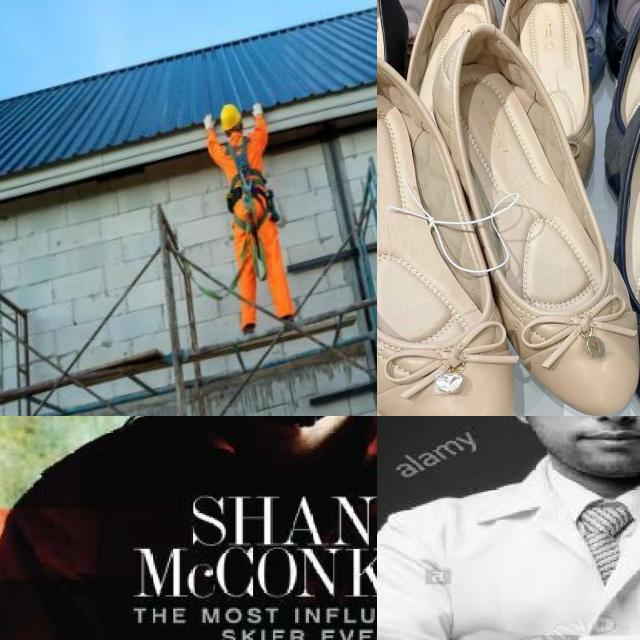Harness: (226, 137, 279, 222)
Sandals: (377, 7, 640, 416), (565, 42, 640, 416)
face_nomask: (550, 416, 640, 462)
person: (377, 416, 640, 640)
